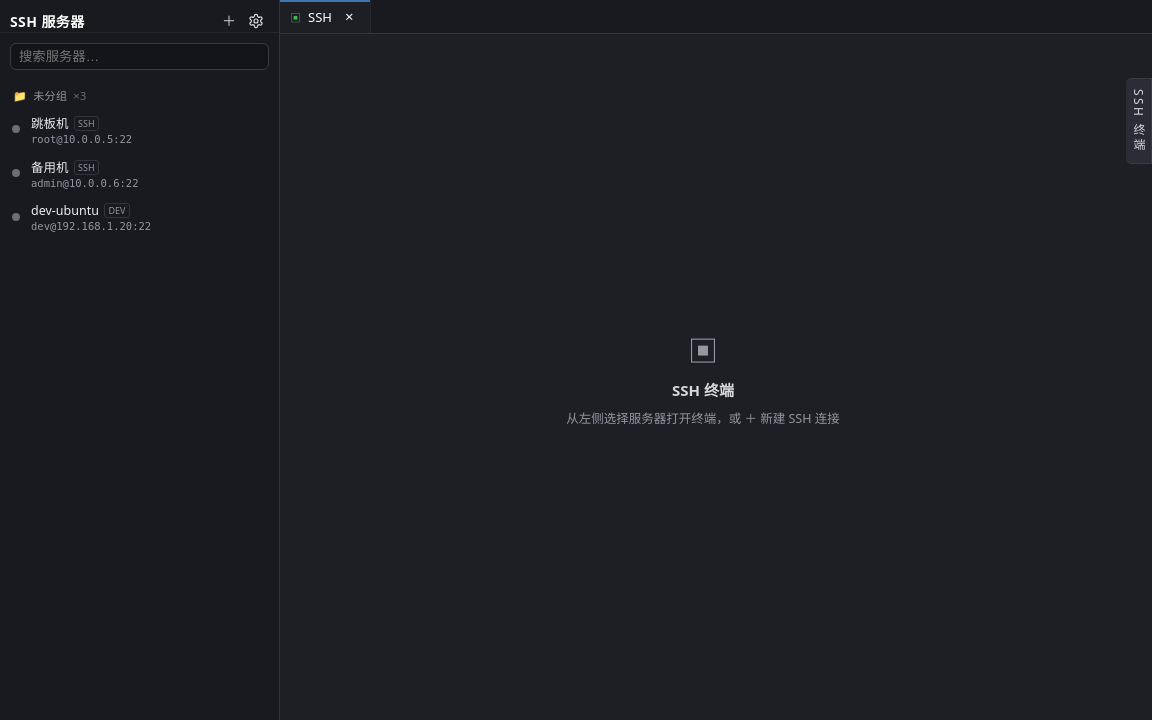
Scenario: ＋ 新建与空态 › ＋ 打开新建对话框；必填缺失点保存 → 字段错误可见且不落盘
This screenshot has width=1152, height=720.
Expected: the element with class "ssh-srv-body" is shown, [12,88,271,238]
Click the button with test id "ssh-srv-new": click(229, 21) [216,11,242,31]
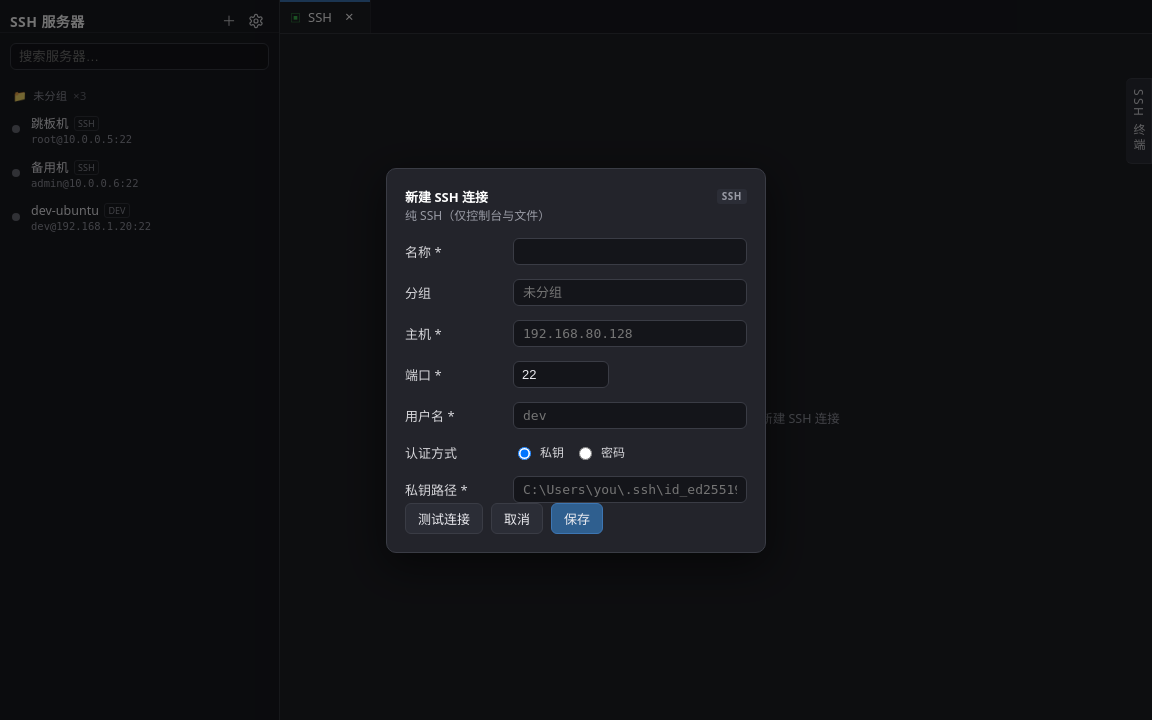
Note: 空表单（名称/主机/用户名/密钥路径缺失；端口缺省 22 合法）→ 保存报错贴字段
Click the button "保存": click(577, 518) [551,502,603,534]
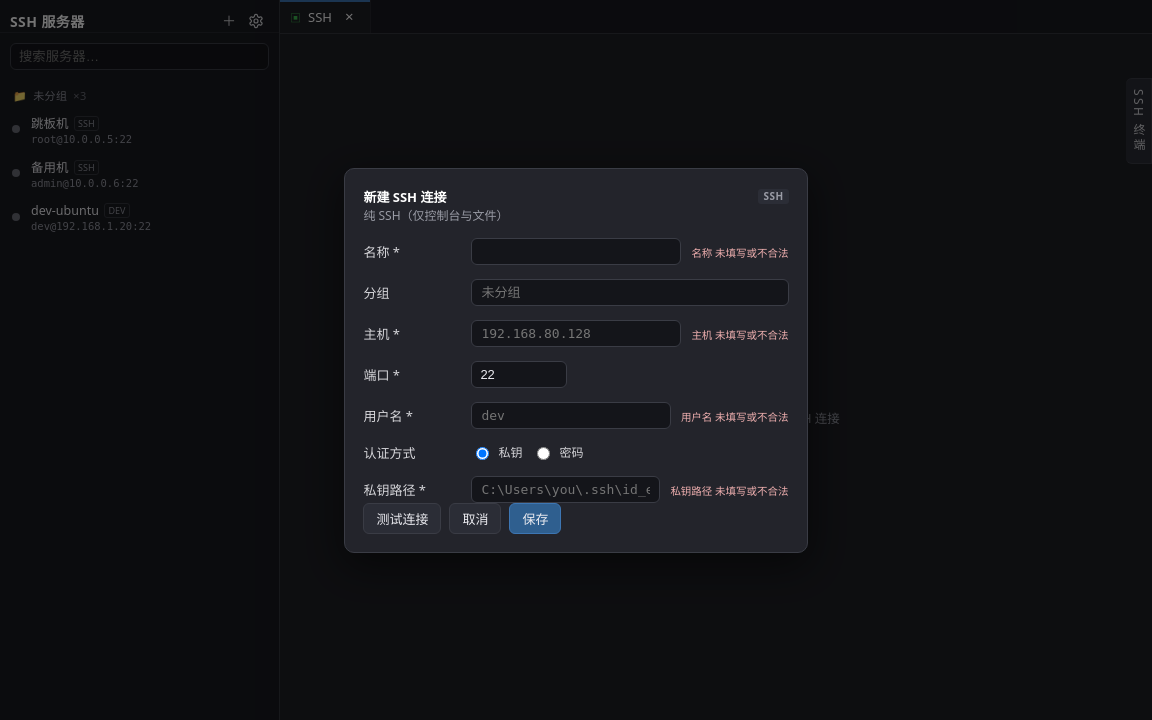
Expected: the dialog "新建 SSH 连接" is shown, [344,168,808,552]
Expected: the message "名称 未填写或不合法" is shown, [691,244,789,260]
